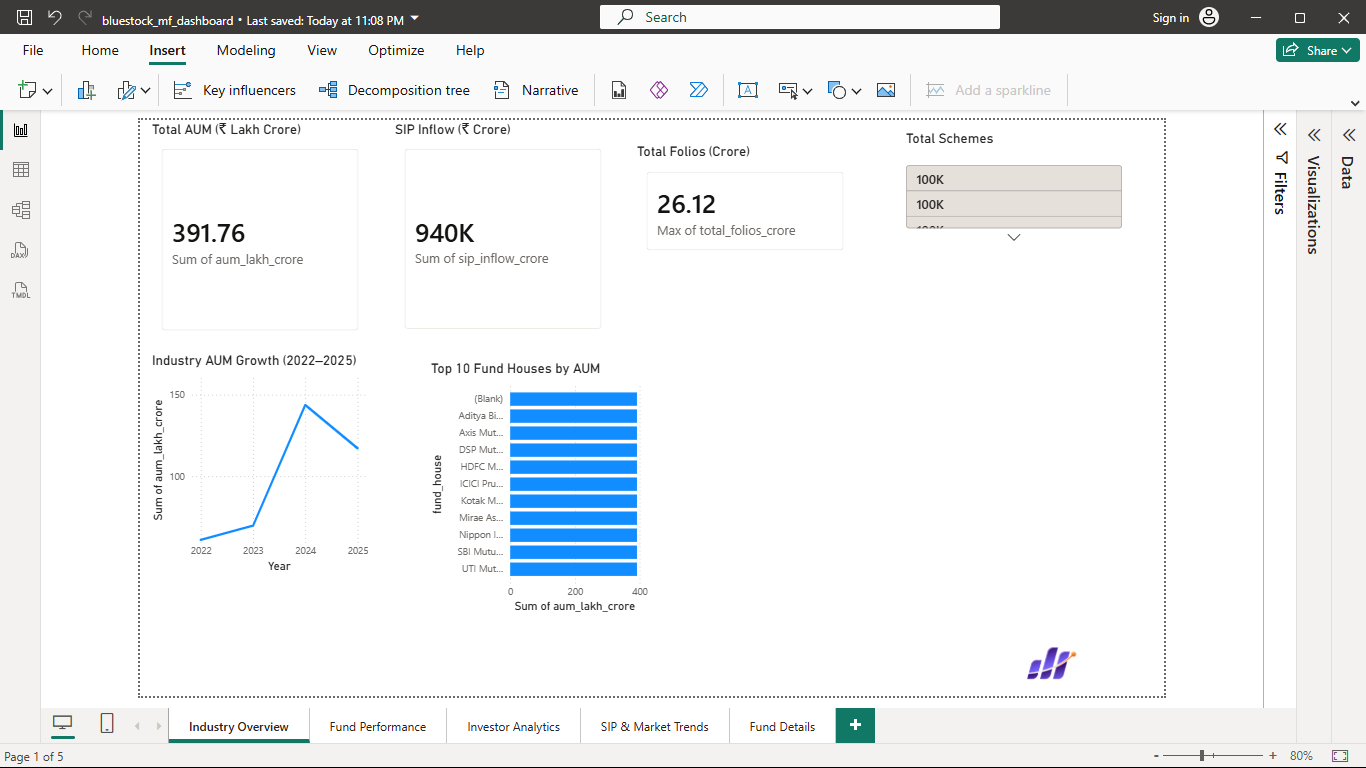

The page's visual inventory and layout, read from the dashboard file:
{"tool":"powerbi","page":{"name":"Industry Overview","canvas":[1280,720],"ordinal":0},"visuals":[{"type":"cardVisual","title":"Total AUM (₹ Lakh Crore)","fields":{"Data":["Sum(03_aum_by_fund_house.aum_lakh_crore)"]},"box":[10,0,280,280],"z":0},{"type":"cardVisual","title":"SIP Inflow (₹ Crore)","fields":{"Data":["Sum(04_monthly_sip_inflows.sip_inflow_crore)"]},"box":[314.1,0,280.5,278.8],"z":1000},{"type":"cardVisual","title":"Total Folios (Crore)","fields":{"Data":["Max(06_industry_folio_count.total_folios_crore)"]},"box":[616.5,28.6,280.5,151.2],"z":2000},{"type":"lineChart","title":"Industry AUM Growth (2022–2025)","fields":{"Category":["03_aum_by_fund_house.date.Variation.Date Hierarchy.Year","03_aum_by_fund_house.date.Variation.Date Hierarchy.Quarter","03_aum_by_fund_house.date.Variation.Date Hierarchy.Month","03_aum_by_fund_house.date.Variation.Date Hierarchy.Day"],"Y":["Sum(03_aum_by_fund_house.aum_lakh_crore)"]},"box":[10,290,280,280],"z":3000},{"type":"clusteredBarChart","title":"Top 10 Fund Houses by AUM","fields":{"Category":["01_fund_master.fund_house"],"Y":["Sum(03_aum_by_fund_house.aum_lakh_crore)"]},"box":[359.2,300,280.8,320.7],"z":4000},{"type":"cardVisual","title":"Total Schemes","fields":{"Rows":["01_fund_master.amfi_code"]},"box":[952.4,12.4,280.8,150],"z":5000},{"type":"image","box":[999.2,638.6,280.8,81.2],"z":5002}]}

Visuals, with their boxes on the page's 1280x720 design canvas (x1, y1, x2, y2). These are canvas units, not pixel positions in the 1366x768 screenshot, which may show the page scaled, cropped or inside an application window:
"Total AUM (₹ Lakh Crore)" cardVisual: (10,0,290,280)
"SIP Inflow (₹ Crore)" cardVisual: (314,0,595,279)
"Total Folios (Crore)" cardVisual: (616,29,897,180)
"Industry AUM Growth (2022–2025)" lineChart: (10,290,290,570)
"Top 10 Fund Houses by AUM" clusteredBarChart: (359,300,640,621)
"Total Schemes" cardVisual: (952,12,1233,162)
image: (999,639,1280,720)
